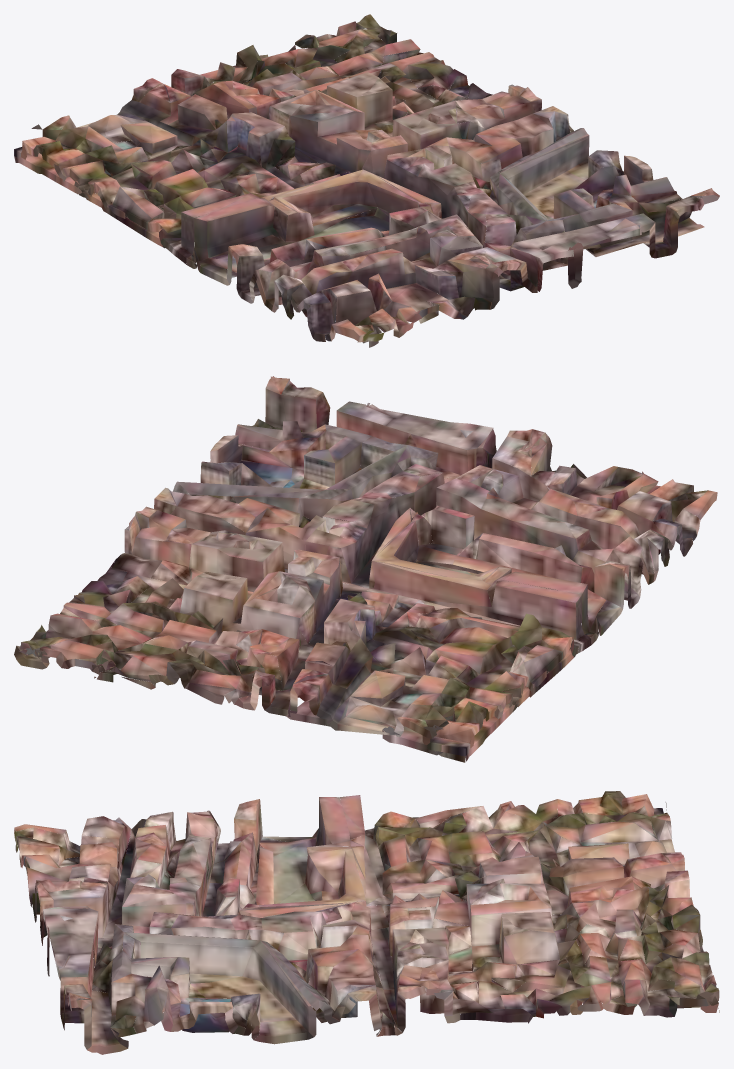
3 renders of one model, top to bottom at view 1: azimuth 30°, elevation 25°; view 2: azimuth 150°, elevation 25°; view 3: azimuth 270°, elevation 25°, orthographic. The views are drawn at different scales.
Visible parts, largest first — view 1: Mesh_0; view 2: Mesh_0; view 3: Mesh_0.
Part boxes in pixels (x1,y1,x2,y2): Mesh_0: [14, 14, 719, 347]; Mesh_0: [14, 376, 717, 762]; Mesh_0: [14, 791, 719, 1054].
Bounding box in the file's own units: 269 × 37.08 × 330.
2 materials, 2 textured.
